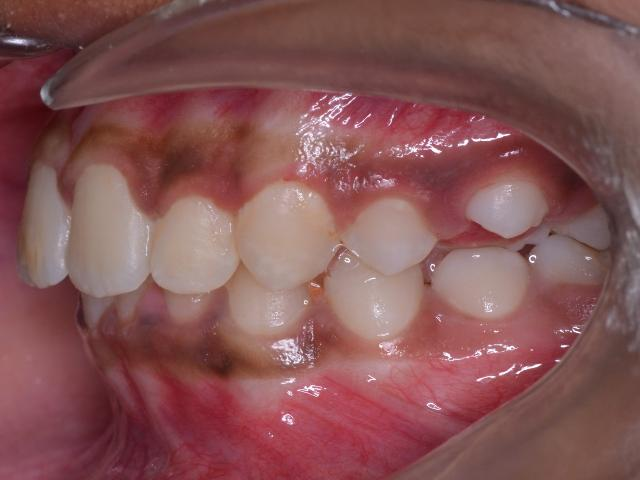canine class II 1/2: (227, 181, 425, 350)
